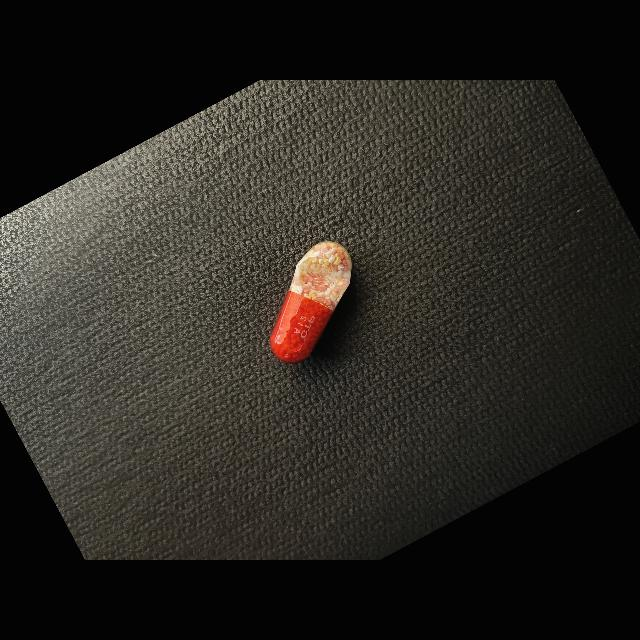Defective Capsule: (270, 241, 352, 363)
